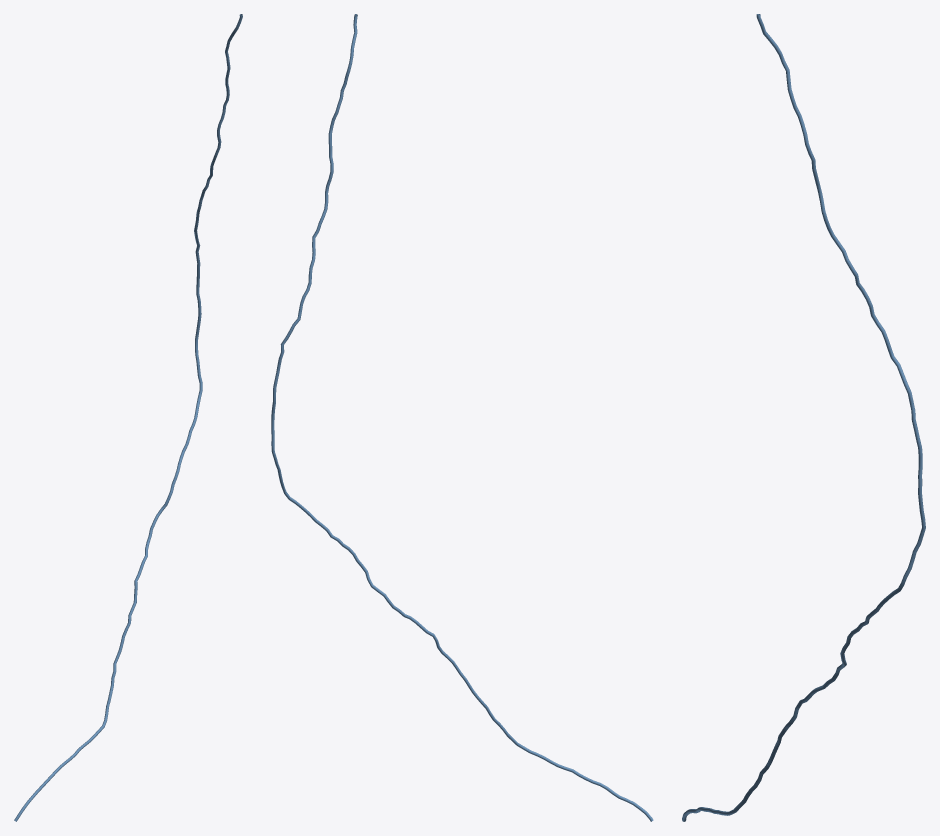
The model's file is sweep116.fbx.
The picture shows the model from 3 angles, left to right: view 1: azimuth 30°, elevation 25°; view 2: azimuth 150°, elevation 25°; view 3: azimuth 270°, elevation 25°; orthographic projection. The views are drawn at different scales.
Visible parts, largest first — view 1: sweep116; view 2: sweep116; view 3: sweep116.
Part boxes in pixels (x1,y1,x2,y2): sweep116: [14, 14, 242, 821]; sweep116: [271, 14, 653, 821]; sweep116: [682, 14, 925, 821].
Bounding box in the file's own units: 2.04 × 5.13 × 1.17.
